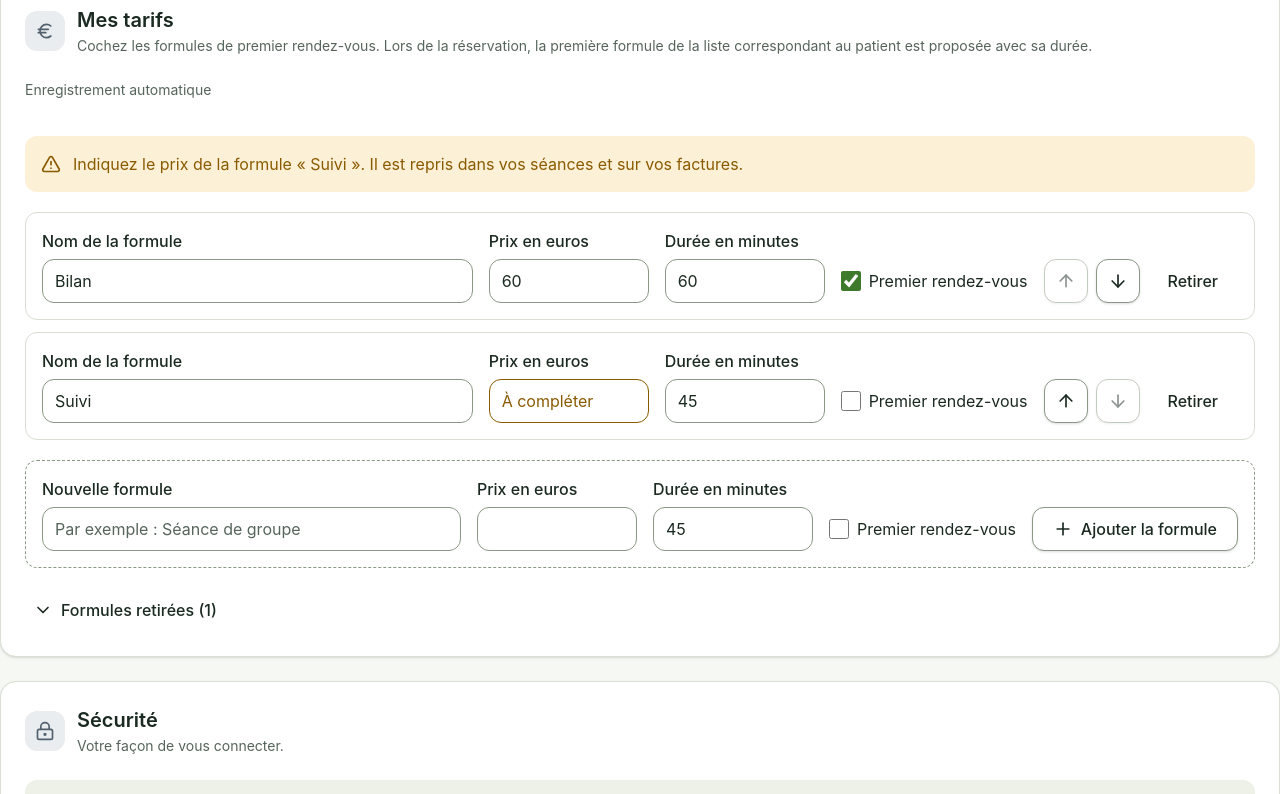
Test case: SettingsPage › flags the formulas without a price and saves a price typed in euros
(page scrolled)
expect the text "Indiquez le prix de la formule « Suivi »" is shown: met, box [73,154,365,174]
Type "52,50" into the 2nd field labelled "Prix en euros". click: (569, 400)
box: [489,378,649,422]
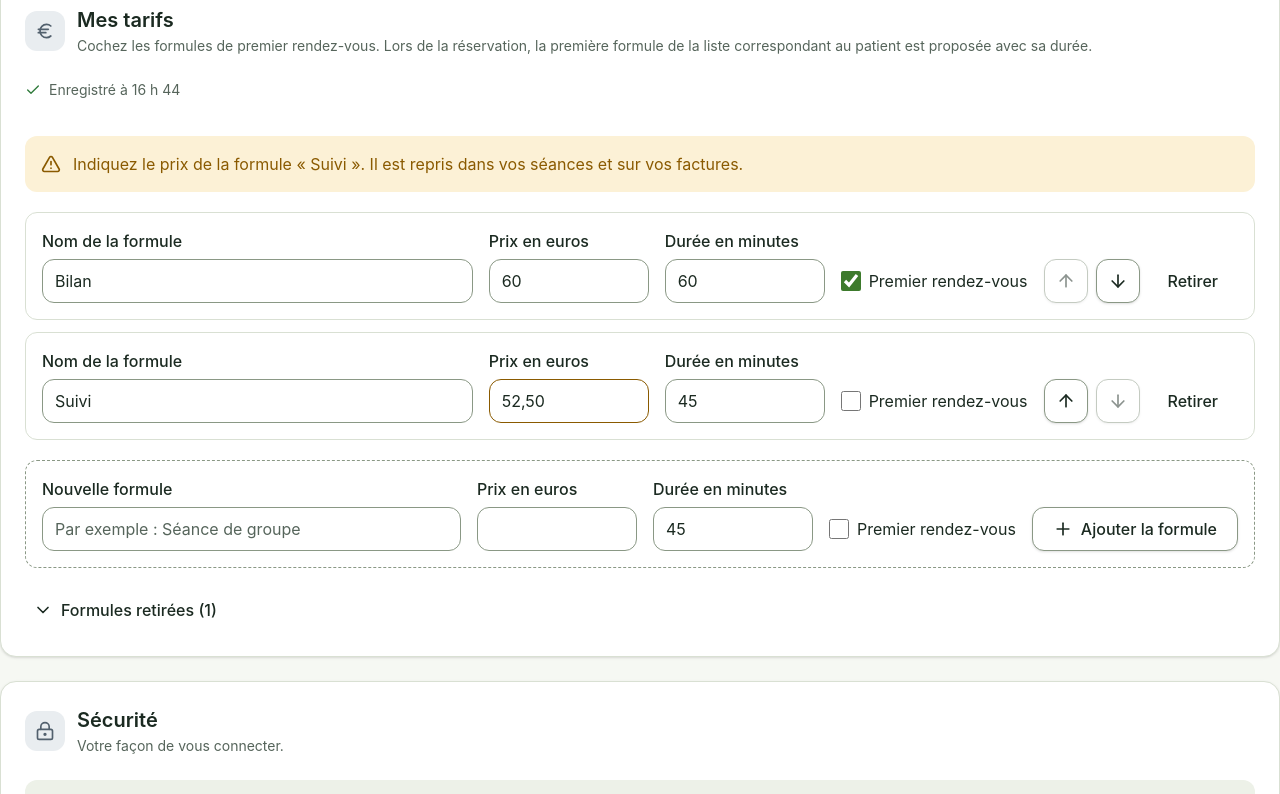
Replace the text in the 1st field labelled "Prix en euros" with "soixante". click: (569, 280)
box: [489,258,649,302]
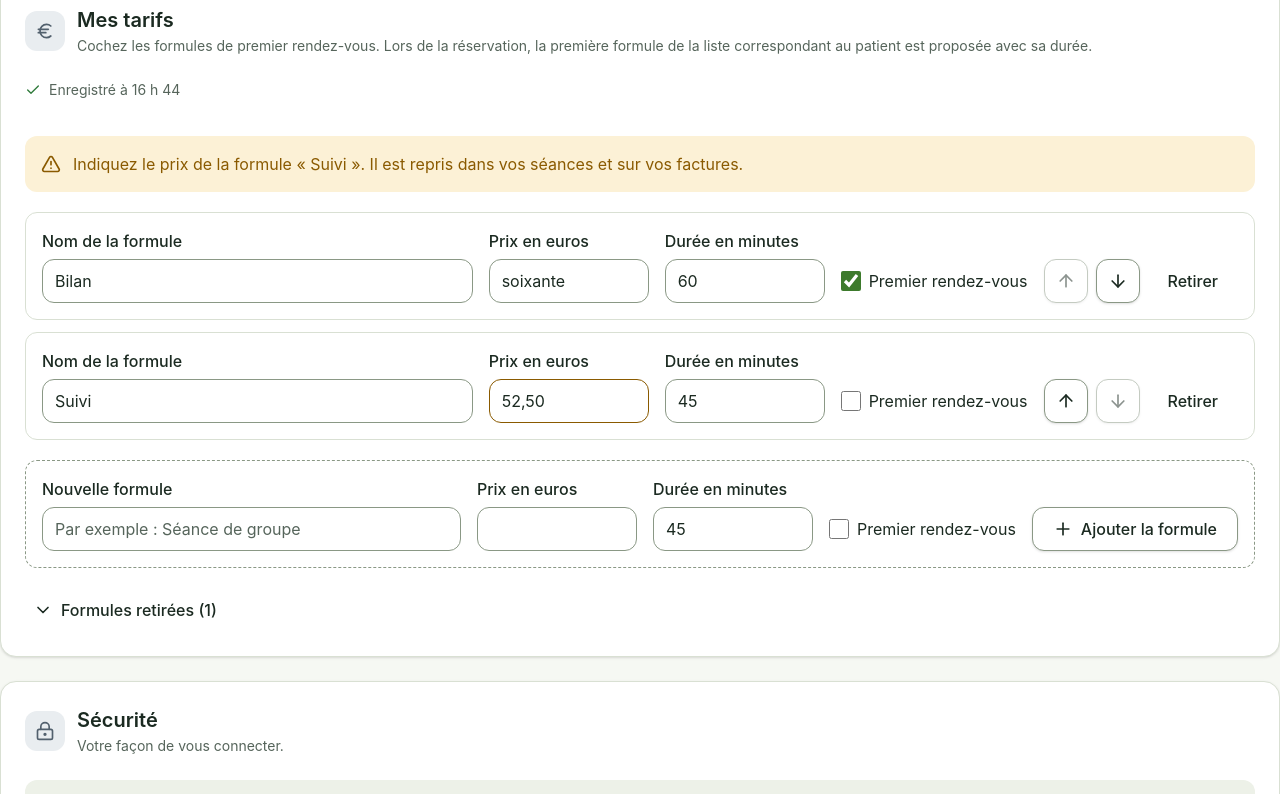
Leave the 1st field labelled "Prix en euros", box [489,258,649,302]
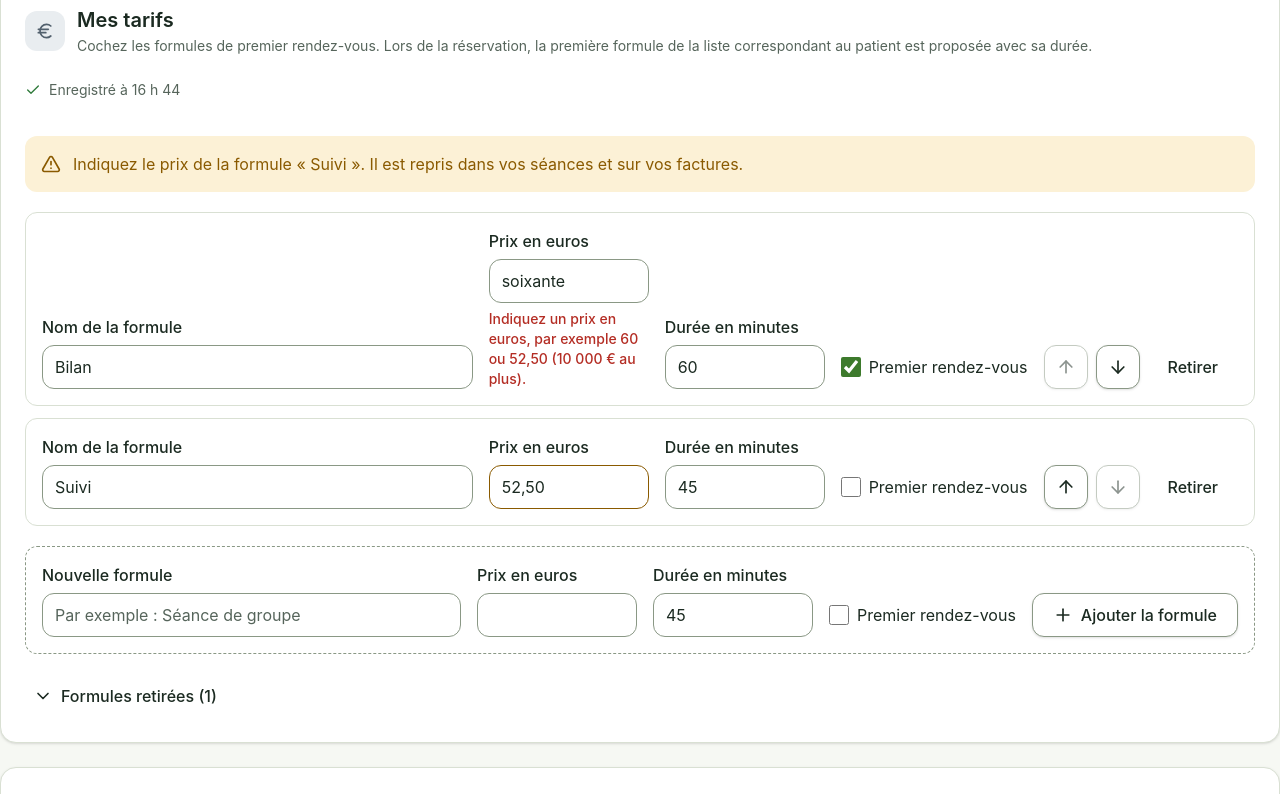
expect the text "Indiquez un prix en euros, par exemple 60 ou 52,50 (10 000 € au plus)." is shown: met, box [489,308,649,388]
